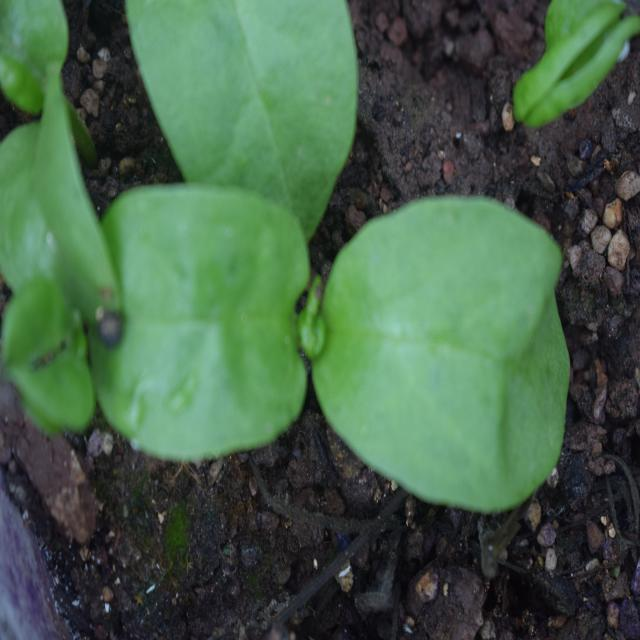Ceylon spinach: (66, 155, 586, 530)
